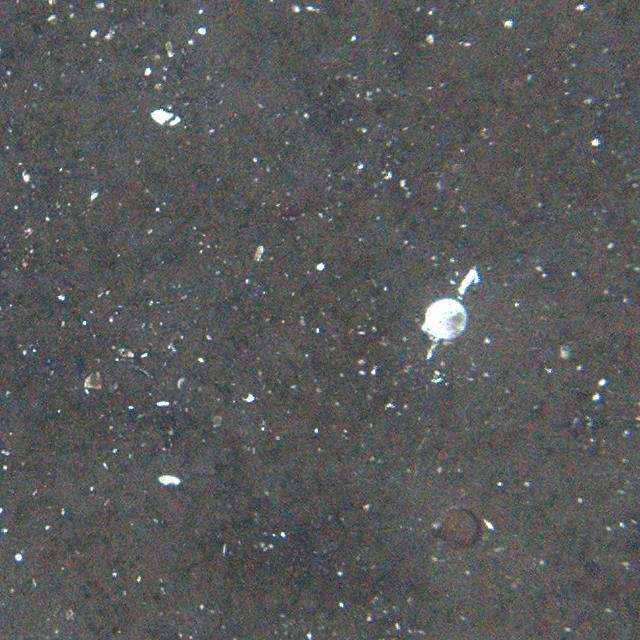scallop: (437, 503, 482, 548)
